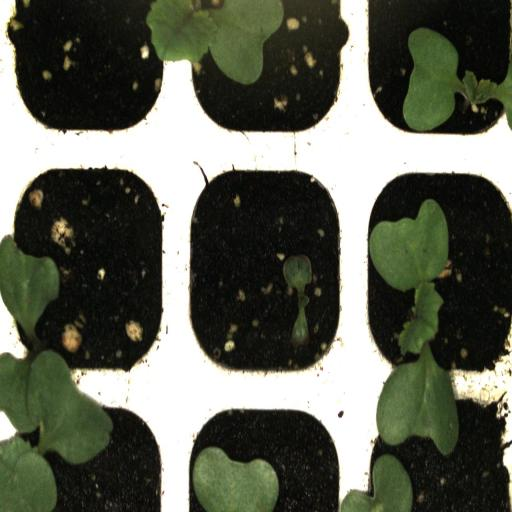Folha: (0, 349, 113, 512), (0, 239, 60, 337), (192, 446, 279, 512), (339, 454, 413, 512)
Germinacao: (175, 150, 356, 384), (0, 150, 172, 392), (357, 148, 512, 382), (355, 0, 512, 142)
